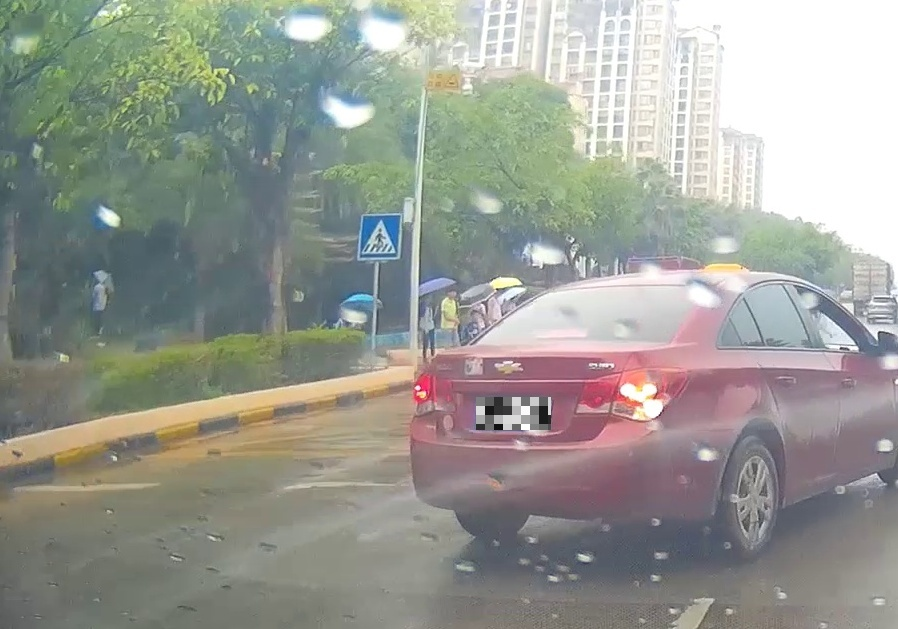L_light: (411, 370, 456, 416)
R_light: (575, 366, 689, 423)
T_light: (540, 327, 587, 338)
day-right: (407, 276, 717, 547)
plate_1: (476, 397, 551, 430)
